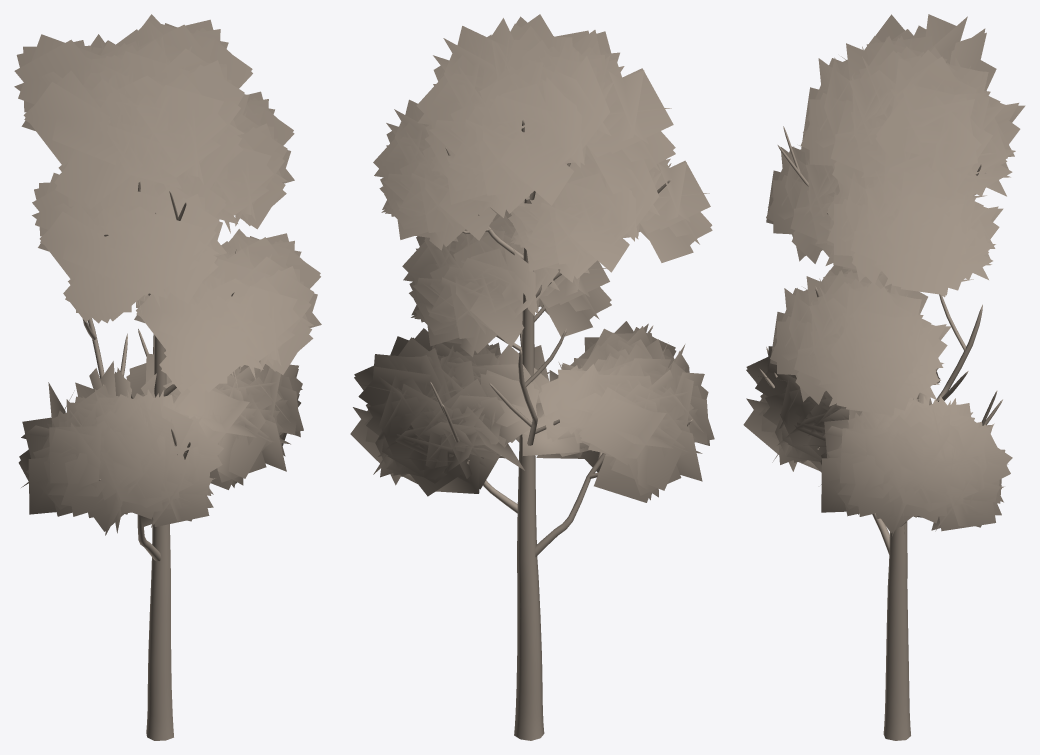
Rendered from BirchTree_2.glb.
3 renders of one model, left to right at view 1: azimuth 30°, elevation 25°; view 2: azimuth 150°, elevation 25°; view 3: azimuth 270°, elevation 25°, orthographic. The views are drawn at different scales.
Parts seen in each view (by area): view 1: BirchTree_Leaves, BirchTree_Bark; view 2: BirchTree_Leaves, BirchTree_Bark; view 3: BirchTree_Leaves, BirchTree_Bark.
Boxes of the visible parts, x1,y1,x2,y2 form: BirchTree_Leaves: (14, 14, 321, 535); BirchTree_Bark: (82, 181, 239, 740); BirchTree_Leaves: (350, 14, 714, 502); BirchTree_Bark: (430, 118, 692, 740); BirchTree_Leaves: (743, 14, 1025, 536); BirchTree_Bark: (759, 126, 1002, 740).
Size of the model in its own units: 3.35 by 7.57 by 2.81.
